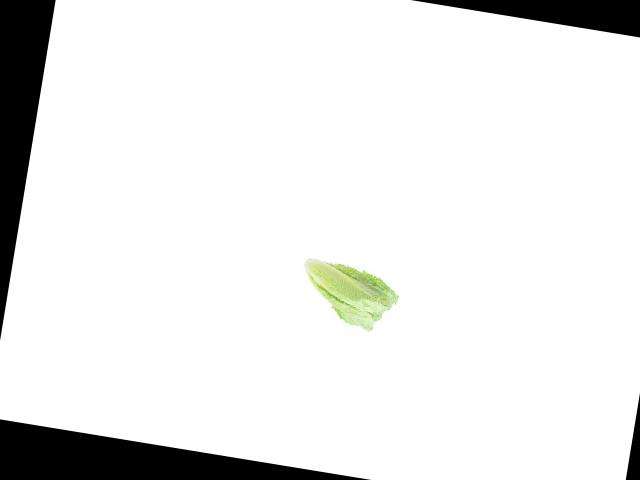lettuce: (286, 254, 403, 335)
